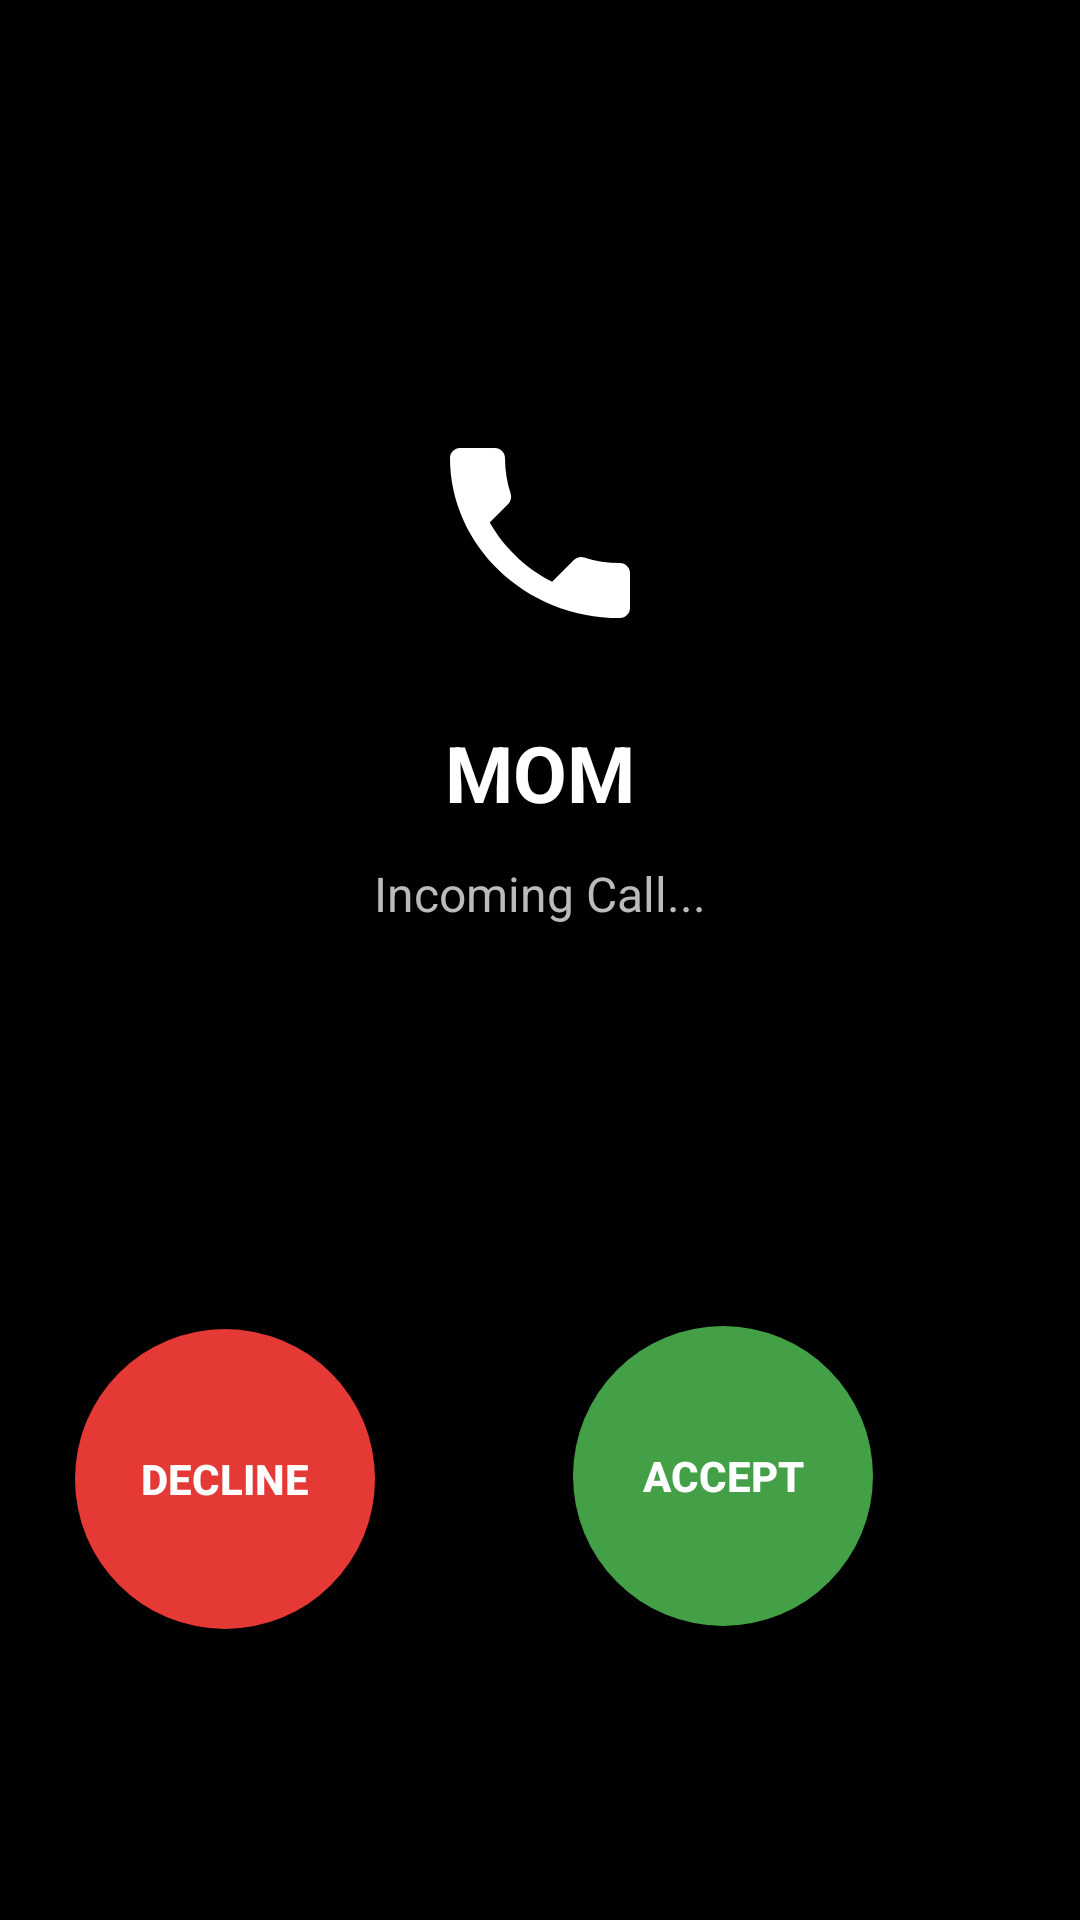

Icons on this 1080px x 1920px Android screen, each with its box as (x1, y1, x2, y2):
call: (450, 448, 630, 618)
